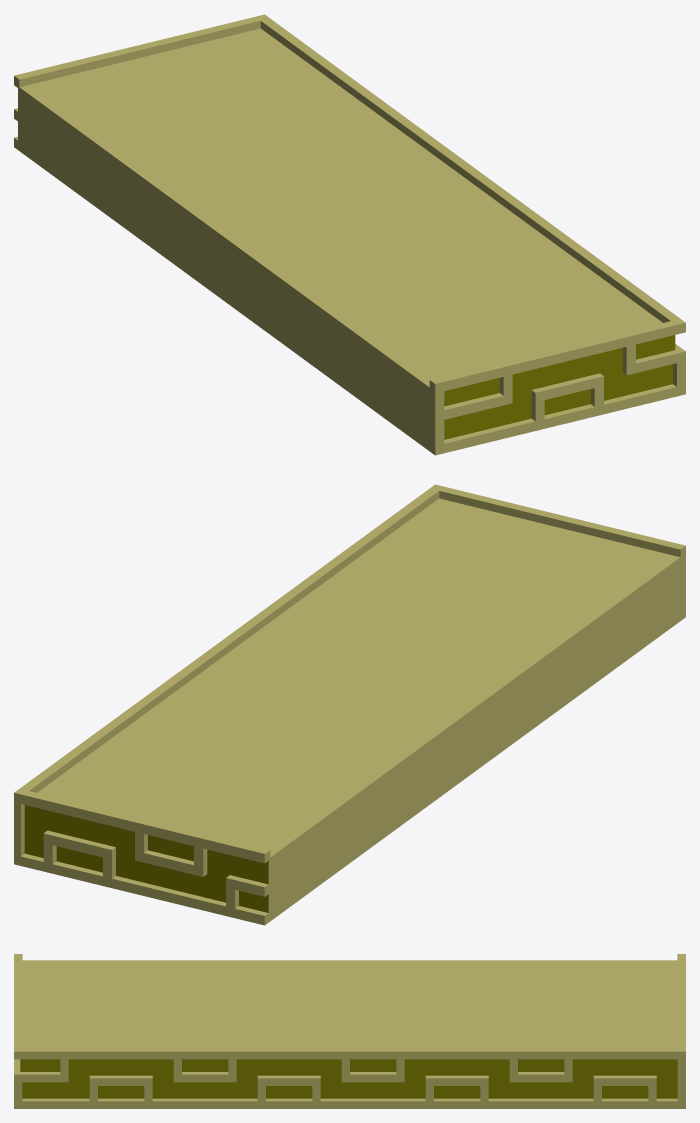
File: Prop_Jungle_Temple_Raised_Platform_01.FBX
The picture shows the model from 3 angles, top to bottom: view 1: azimuth 30°, elevation 25°; view 2: azimuth 150°, elevation 25°; view 3: azimuth 270°, elevation 25°; orthographic projection. The views are drawn at different scales.
Visible parts, largest first — view 1: Prop_Jungle_Temple_Raised_Platform_01; view 2: Prop_Jungle_Temple_Raised_Platform_01; view 3: Prop_Jungle_Temple_Raised_Platform_01.
Part boxes in pixels (left/top/right/bottom): Prop_Jungle_Temple_Raised_Platform_01: left=14, top=14, right=685, bottom=455; Prop_Jungle_Temple_Raised_Platform_01: left=14, top=484, right=685, bottom=925; Prop_Jungle_Temple_Raised_Platform_01: left=14, top=954, right=685, bottom=1108.
Bounding box in the file's own units: 3121 × 851 × 9078.
